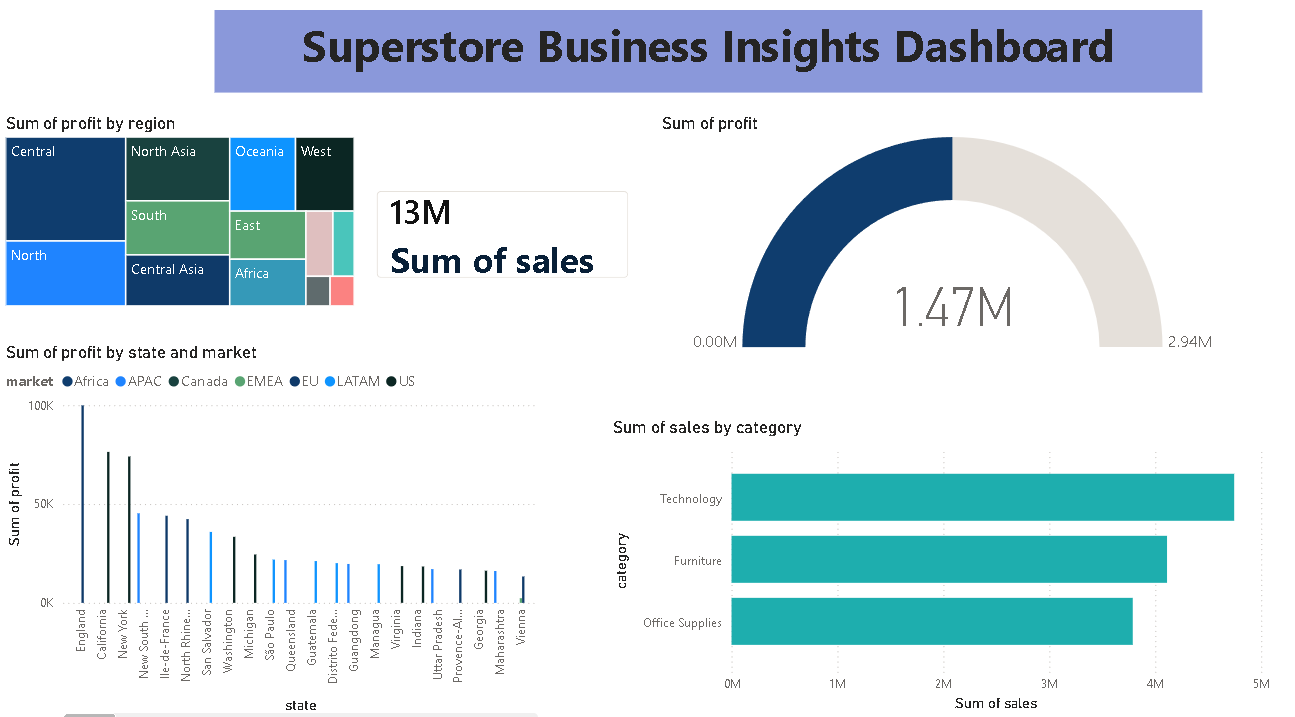

This screenshot's page, from the dashboard's own definition file:
{"tool":"powerbi","page":{"name":"Page 1","canvas":[1280,720],"ordinal":0},"visuals":[{"type":"cardVisual","fields":{"Data":["Sum(SuperStore_Orders.sales)"]},"box":[359.5,179.8,280,119.8],"z":0},{"type":"treemap","fields":{"Values":["Sum(SuperStore_Orders.profit)"],"Group":["SuperStore_Orders.region"]},"box":[8.6,119.8,351,194.4],"z":1000},{"type":"clusteredBarChart","fields":{"Category":["SuperStore_Orders.category"],"Y":["Sum(SuperStore_Orders.sales)"]},"box":[602.9,417,653,293.5],"z":2000},{"type":"clusteredColumnChart","fields":{"Category":["SuperStore_Orders.state"],"Y":["Sum(SuperStore_Orders.profit)"],"Series":["SuperStore_Orders.market"]},"box":[8.6,343.6,530.7,376.6],"z":3000},{"type":"gauge","fields":{"Y":["Sum(SuperStore_Orders.profit)"]},"box":[650.5,119.8,578.4,239.7],"z":4000},{"type":"textbox","box":[217.7,19.6,966,80.7],"z":4002}]}

Visuals, with their boxes in screenshot pixels (x1, y1, x2, y2), scaled from the page's 1280x720 canvas onto the 1295x717 screenshot:
cardVisual - Sum(SuperStore_Orders.sales): <region>364, 179, 647, 298</region>
treemap - Sum(SuperStore_Orders.profit) x SuperStore_Orders.region: <region>9, 119, 364, 313</region>
clusteredBarChart - SuperStore_Orders.category x Sum(SuperStore_Orders.sales): <region>610, 415, 1271, 708</region>
clusteredColumnChart - SuperStore_Orders.state x Sum(SuperStore_Orders.profit): <region>9, 342, 546, 716</region>
gauge - Sum(SuperStore_Orders.profit): <region>658, 119, 1243, 358</region>
textbox: <region>220, 20, 1198, 100</region>
